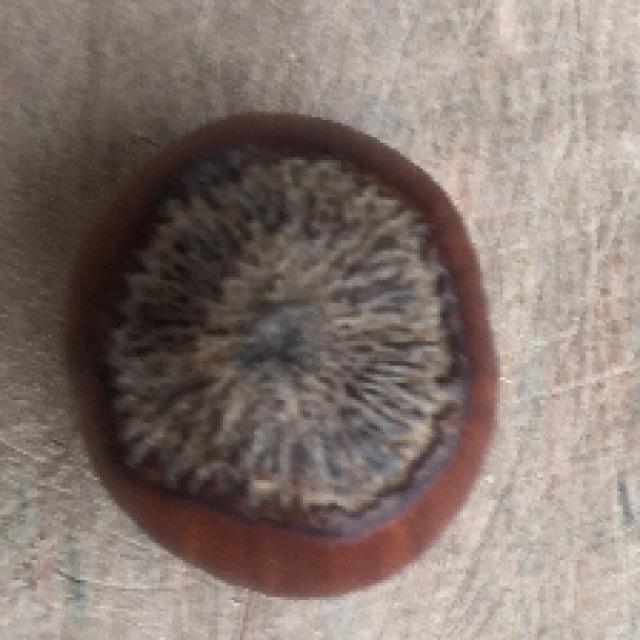damagedHazelnut: (61, 106, 502, 601)
